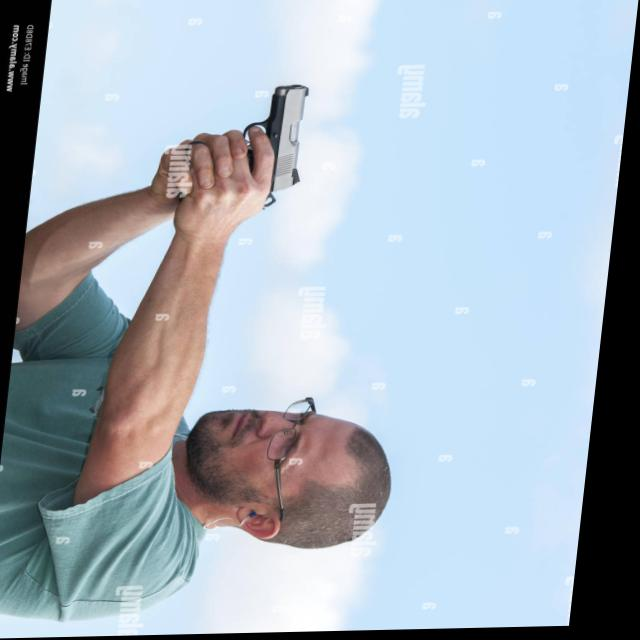handgun: (232, 82, 316, 203)
